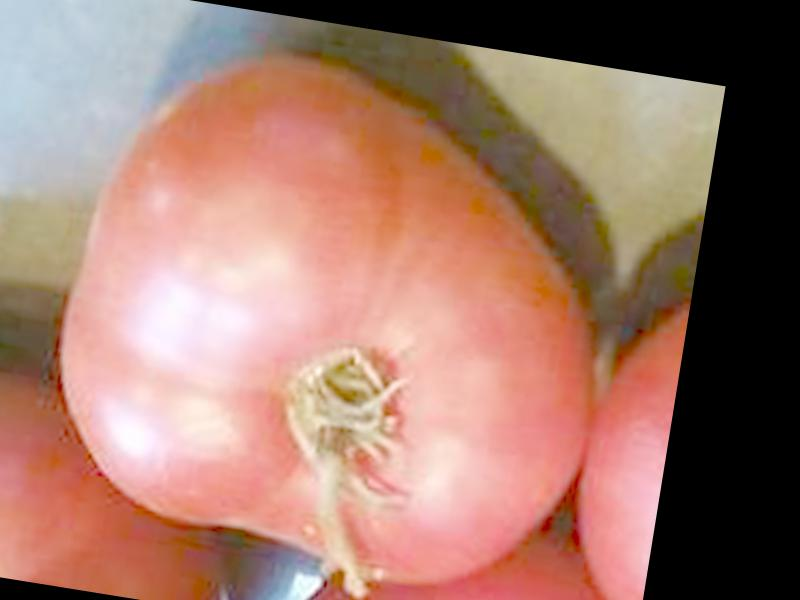Tomato: (31, 30, 635, 600)
